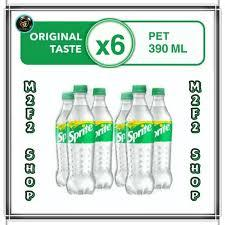BIODEGRADABLE: (69, 84, 97, 198), (132, 82, 154, 201), (151, 84, 176, 188), (92, 89, 115, 193), (56, 88, 73, 191), (119, 91, 133, 184)
